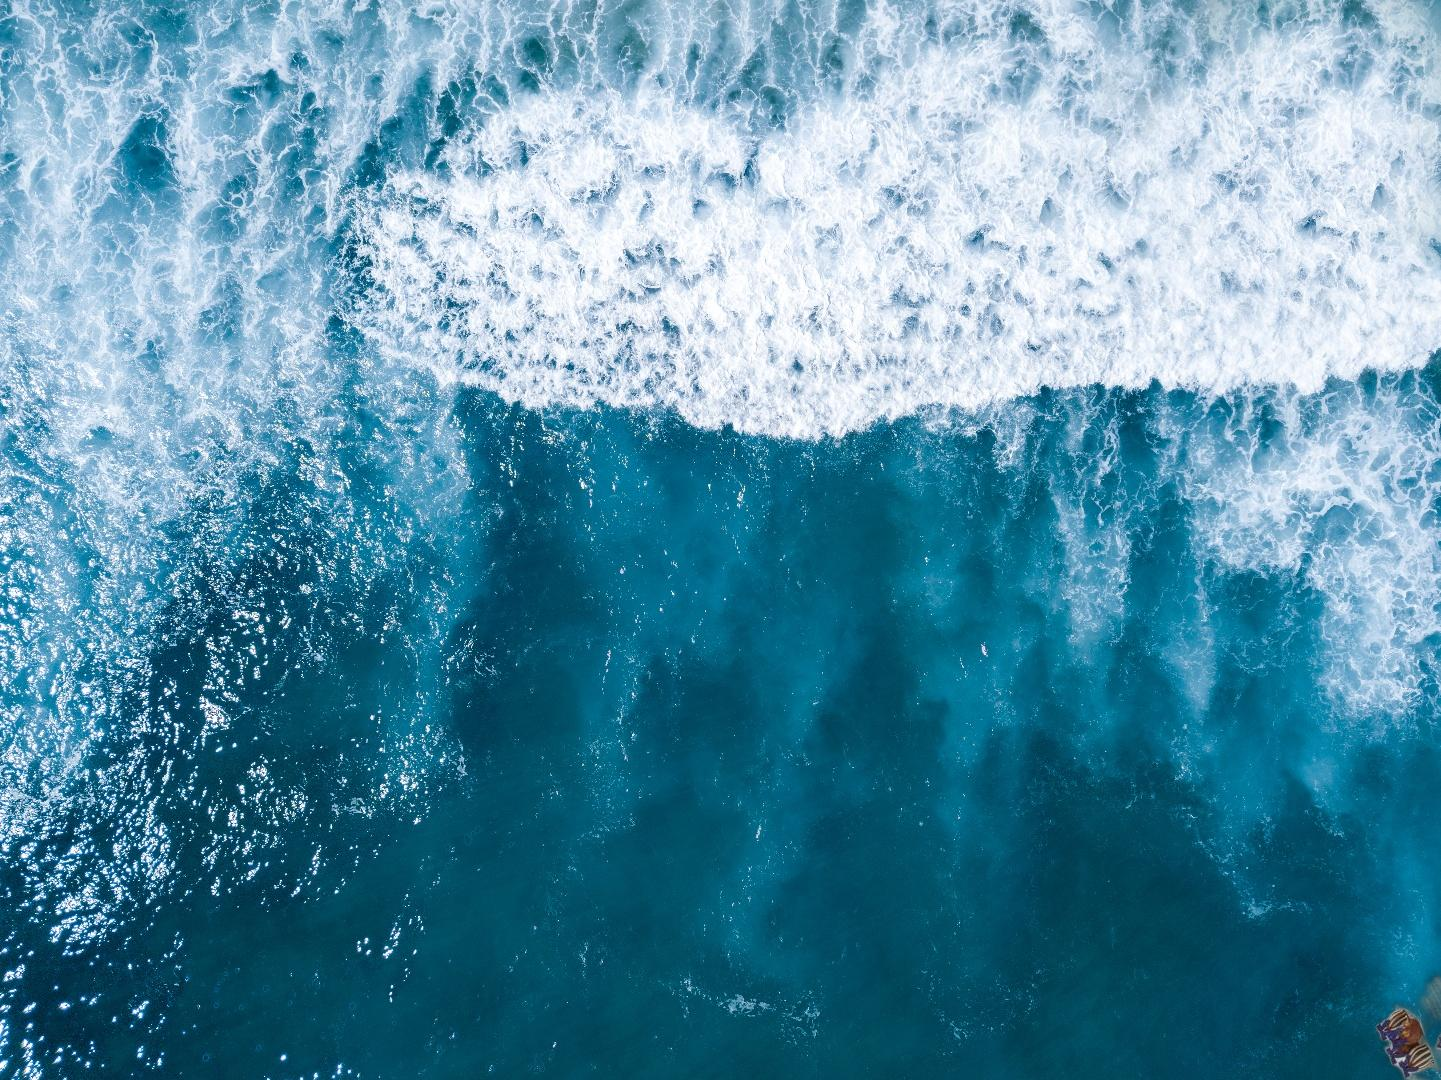paper: (1346, 875, 1441, 1080)
